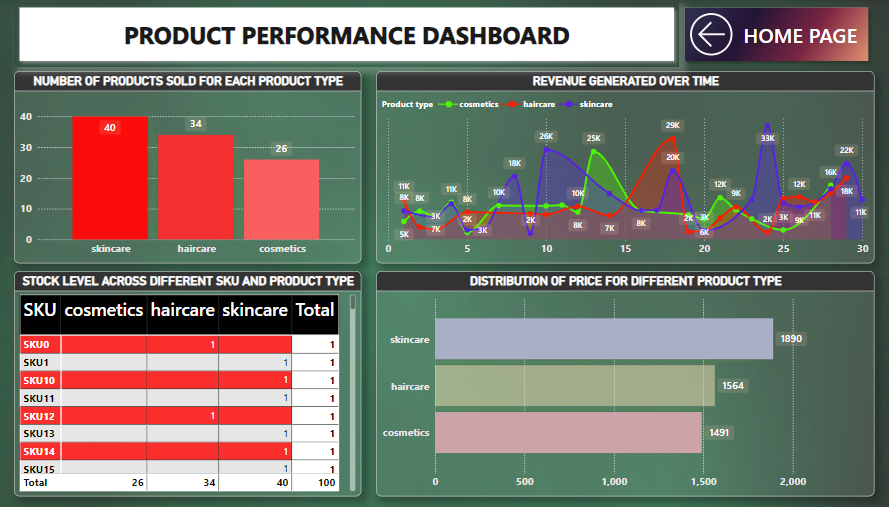

Layout of this report page (visuals, bound fields, positions):
{"tool":"powerbi","page":{"name":"Product Performance","canvas":[1400,800],"ordinal":1},"visuals":[{"type":"columnChart","title":"NUMBER OF PRODUCTS SOLD FOR EACH PRODUCT TYPE","fields":{"Category":["supply_chain_data.Product type"],"Y":["CountNonNull(supply_chain_data.Number of products sold)"]},"box":[21.7,113.3,546.7,303.3],"z":0},{"type":"lineChart","title":"REVENUE GENERATED OVER TIME","fields":{"Y":["Sum(supply_chain_data.Revenue generated)"],"Category":["supply_chain_data.Lead time"],"Series":["supply_chain_data.Product type"]},"box":[591.7,113.3,785,303.3],"z":1000},{"type":"barChart","title":"DISTRIBUTION OF PRICE FOR DIFFERENT PRODUCT TYPE","fields":{"Category":["supply_chain_data.Product type"],"Y":["Sum(supply_chain_data.Price)"]},"box":[591.7,428.3,785,355],"z":2000},{"type":"pivotTable","title":"STOCK LEVEL ACROSS DIFFERENT SKU AND PRODUCT TYPE ","fields":{"Columns":["supply_chain_data.Product type"],"Values":["CountNonNull(supply_chain_data.Stock levels)"],"Rows":["supply_chain_data.SKU"]},"box":[21.7,428.3,546.7,355],"z":3000},{"type":"shape","box":[21.7,5,1048.3,101.7],"z":4000},{"type":"actionButton","box":[1070,5,306.7,101.7],"z":5000}]}

Visuals, with their boxes in screenshot pixels (x1, y1, x2, y2), scaled from the page's 1400x800 canvas onto the 889x507 screenshot:
"NUMBER OF PRODUCTS SOLD FOR EACH PRODUCT TYPE" columnChart: detection(14, 72, 361, 264)
"REVENUE GENERATED OVER TIME" lineChart: detection(376, 72, 874, 264)
"DISTRIBUTION OF PRICE FOR DIFFERENT PRODUCT TYPE" barChart: detection(376, 271, 874, 496)
"STOCK LEVEL ACROSS DIFFERENT SKU AND PRODUCT TYPE " pivotTable: detection(14, 271, 361, 496)
shape: detection(14, 3, 679, 68)
actionButton: detection(679, 3, 874, 68)
